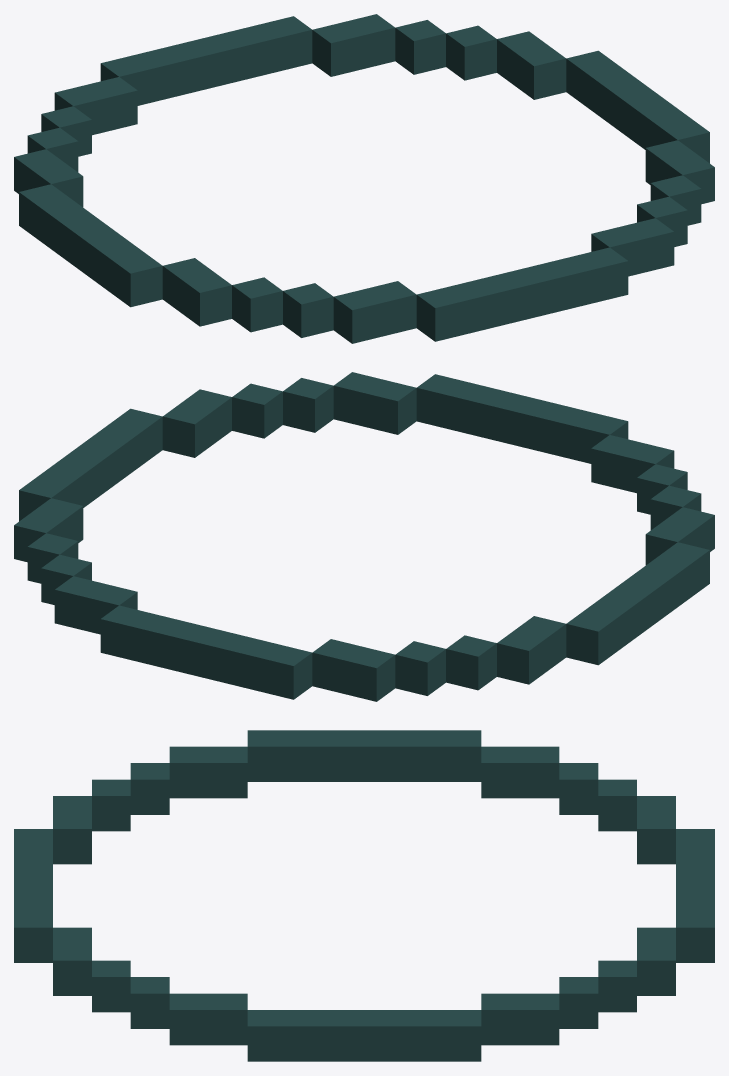
File: Crystal_Ring_3.obj
3 renders of one model, top to bottom at view 1: azimuth 30°, elevation 25°; view 2: azimuth 150°, elevation 25°; view 3: azimuth 270°, elevation 25°, orthographic. The views are drawn at different scales.
Bounding box in the file's own units: 0.45 × 0.025 × 0.45.
